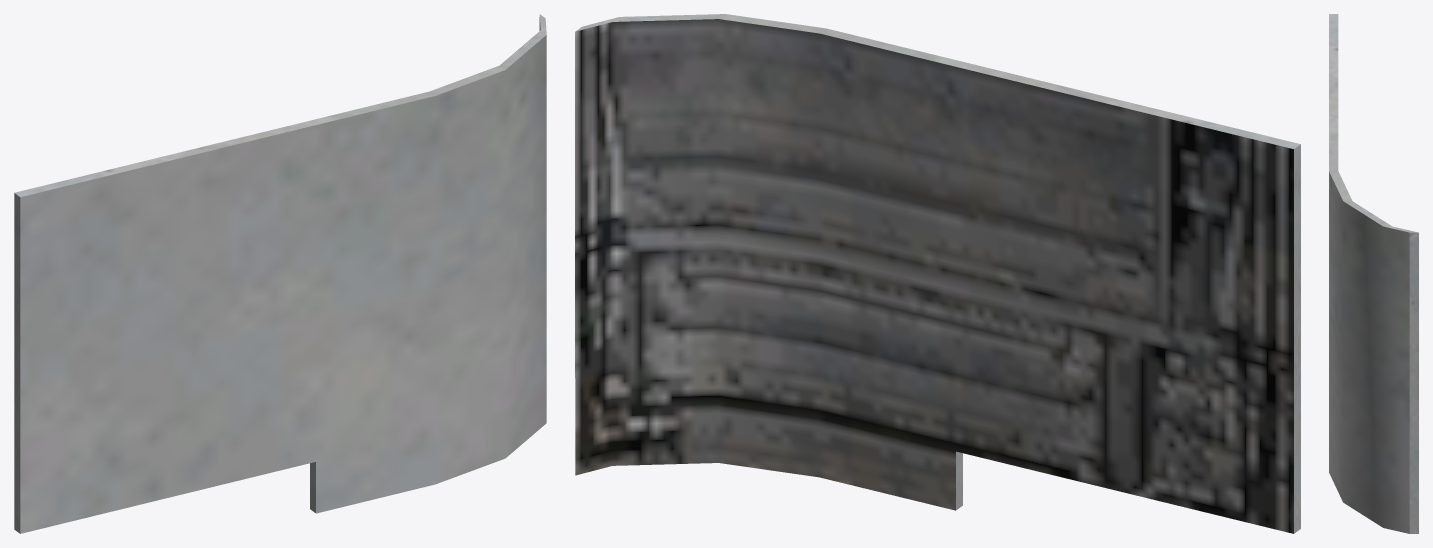
The model's file is lambda_geardoor_a2.fbx.
3 views of the same model, side by side, from view 1: azimuth 30°, elevation 25°; view 2: azimuth 150°, elevation 25°; view 3: azimuth 270°, elevation 25° (orthographic). The views are drawn at different scales.
Visible parts, largest first — view 1: mesh_node; view 2: mesh_node; view 3: mesh_node.
Part boxes in pixels (box(x1,y1,x2,y2)): mesh_node: box(14, 14, 546, 533); mesh_node: box(575, 14, 1300, 533); mesh_node: box(1329, 14, 1418, 533).
Size of the model in its own units: 2.92 by 1.88 by 0.5067.
